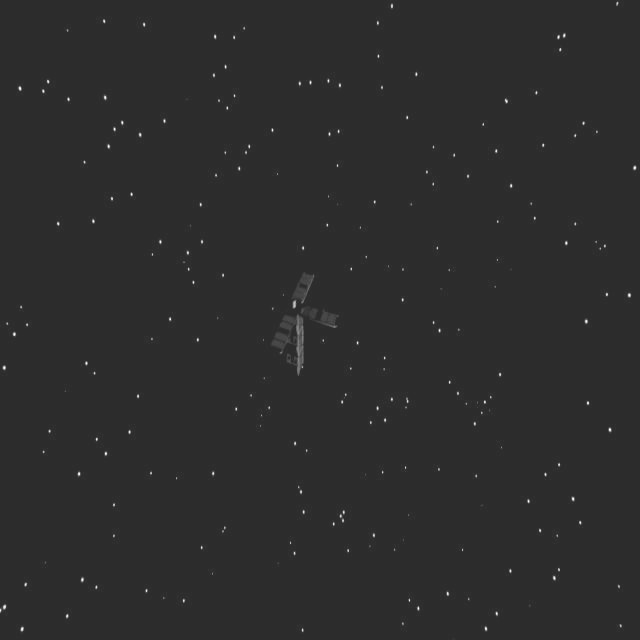satellite: (255, 265, 345, 379)
